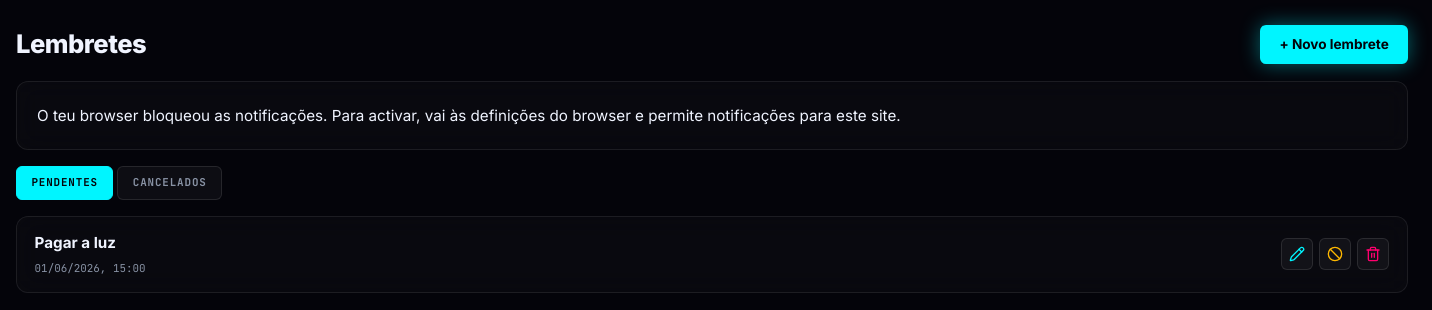
it: LembretesPage (Story 4.6 / AC9) › C3 — tab Cancelados: só cancelled, Restaurar disponível, sem "+ Novo lembrete"
Click the tab "Cancelados" at (170, 183), box left=117, top=166, right=222, bottom=200
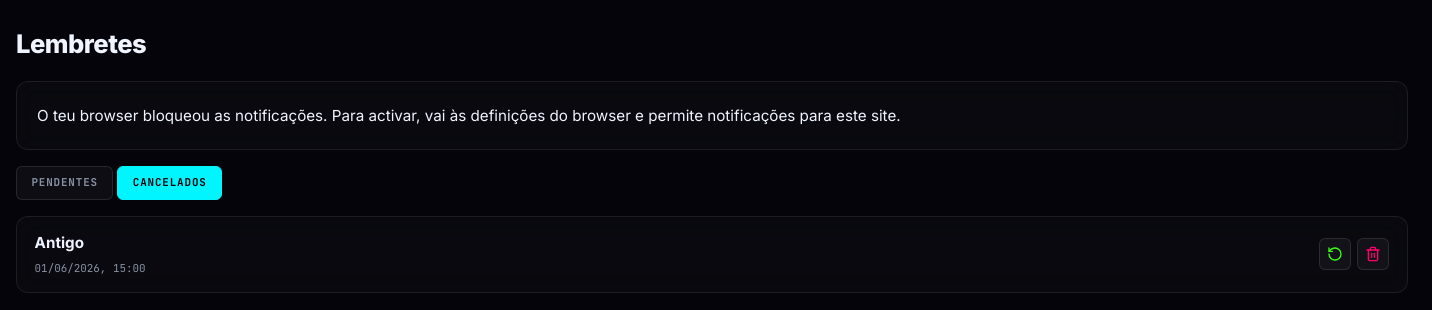
Check: the text "Antigo" is shown, box left=35, top=234, right=84, bottom=252
Check: the text "Pagar a luz" is gone
Check: the button named "Restaurar \"Antigo\"" is shown, box left=1319, top=238, right=1351, bottom=270
